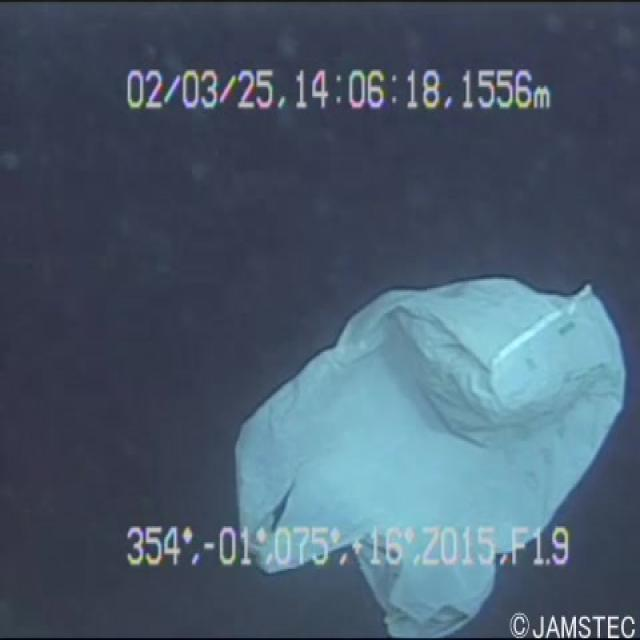plastic: (207, 199, 632, 638)
